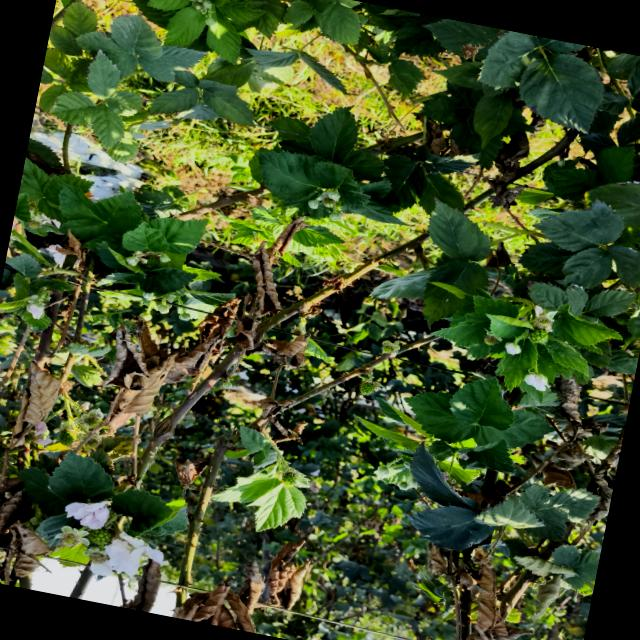boton: (309, 190, 340, 209), (505, 342, 521, 355), (308, 200, 319, 210)
flor: (105, 532, 168, 576), (65, 501, 110, 530), (524, 373, 548, 391)
